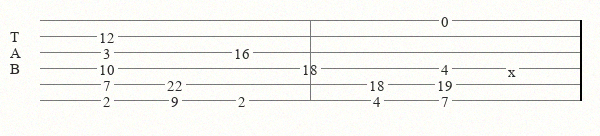0: (441, 13, 453, 27)
10: (99, 61, 119, 75)
12: (99, 29, 119, 43)
16: (234, 45, 254, 59)
18: (302, 61, 322, 75), (369, 77, 389, 91)
19: (437, 77, 457, 91)
2: (103, 93, 115, 107), (238, 93, 250, 107)
22: (167, 77, 187, 91)
3: (103, 45, 115, 59)
4: (373, 93, 385, 107), (441, 61, 453, 75)
7: (103, 77, 115, 91), (441, 93, 453, 107)
9: (171, 93, 183, 107)
x: (508, 63, 520, 74)
